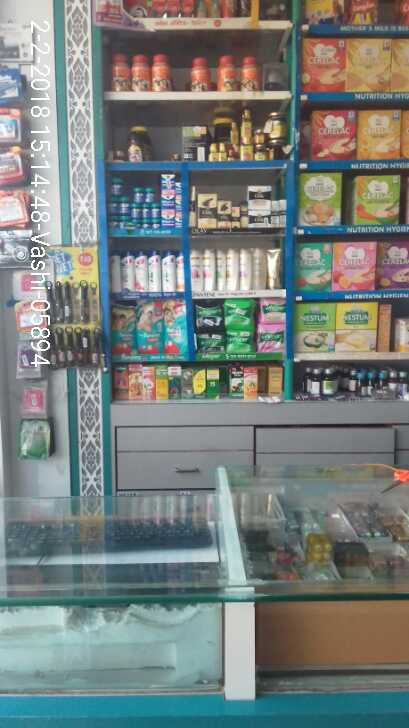beauty: (237, 247, 254, 292), (196, 192, 217, 228), (265, 248, 283, 289), (160, 249, 176, 291), (248, 184, 273, 210), (135, 249, 150, 292), (108, 249, 123, 292), (122, 251, 137, 293), (189, 246, 203, 291), (253, 247, 267, 290), (225, 247, 237, 294), (202, 247, 215, 290), (216, 248, 228, 294), (148, 249, 161, 291), (217, 199, 231, 230), (231, 205, 241, 230)
pharmacy: (161, 298, 189, 352), (135, 298, 163, 352), (112, 304, 138, 352), (222, 298, 257, 332), (192, 300, 223, 335), (256, 326, 284, 355), (257, 298, 285, 325), (225, 332, 256, 355), (194, 334, 226, 352), (111, 177, 125, 195), (118, 196, 131, 215), (132, 186, 144, 203), (145, 187, 157, 203)
